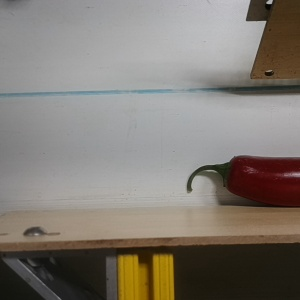Cut Point: (216, 154, 248, 196)
